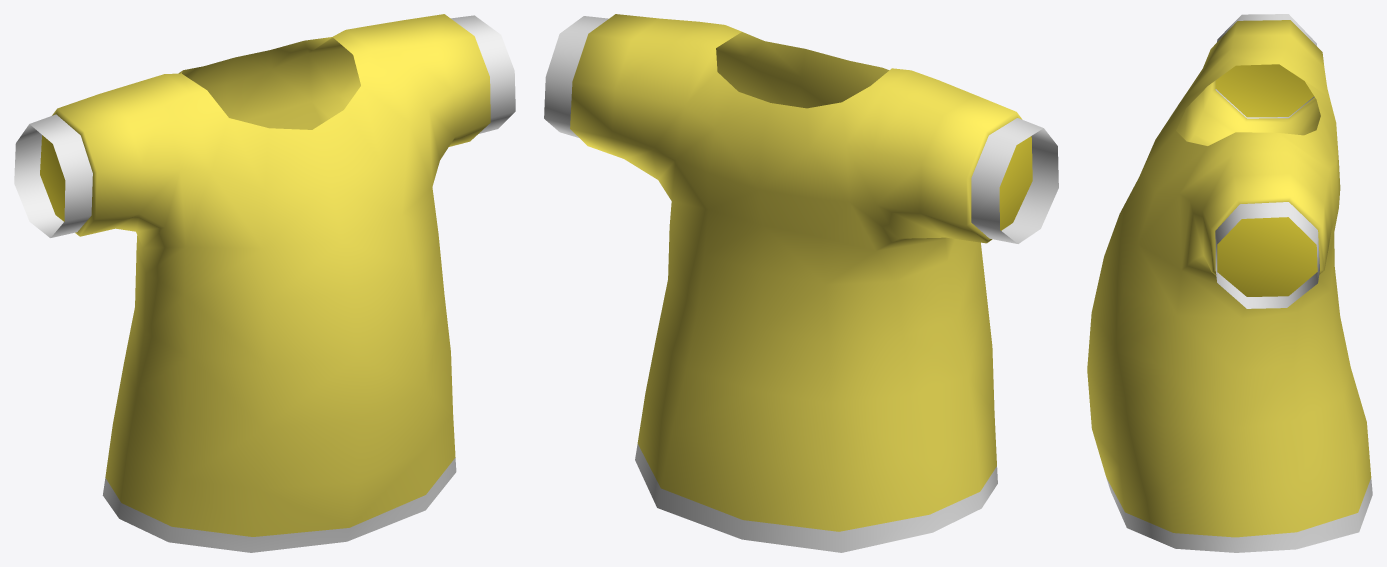
The model's file is Outerwear_Yellow_016.glb.
The picture shows the model from 3 angles, left to right: view 1: azimuth 30°, elevation 25°; view 2: azimuth 150°, elevation 25°; view 3: azimuth 270°, elevation 25°; orthographic projection. The views are drawn at different scales.
Visible parts, largest first — view 1: Outerwear_Yellow_016; view 2: Outerwear_Yellow_016; view 3: Outerwear_Yellow_016.
Part boxes in pixels (x1,y1,x2,y2): Outerwear_Yellow_016: (14, 14, 515, 552); Outerwear_Yellow_016: (544, 14, 1058, 552); Outerwear_Yellow_016: (1087, 14, 1372, 552).
Bounding box in the file's own units: 0.6893 × 0.6211 × 0.4041.
1 material, 1 textured.
